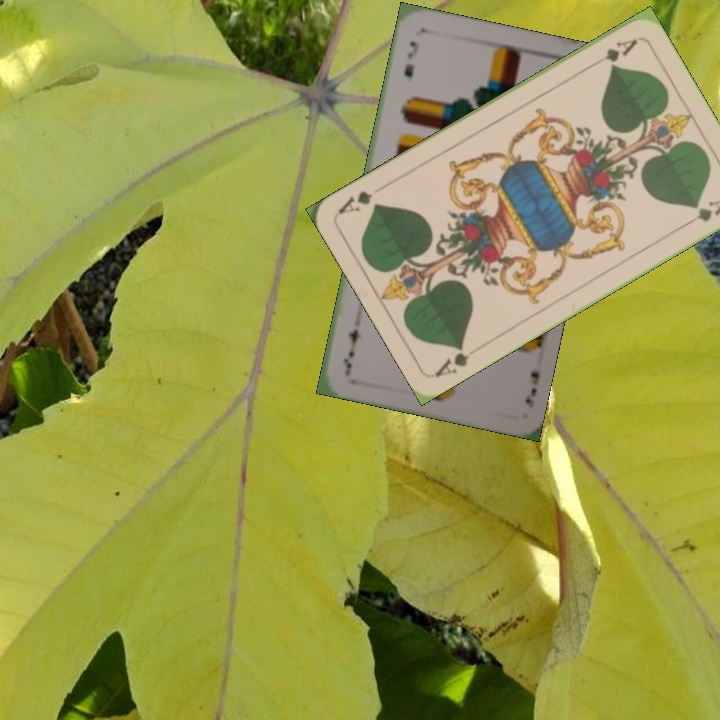E7: (399, 37, 421, 81), (521, 367, 542, 411)
GA: (587, 35, 641, 70), (431, 339, 472, 380)
